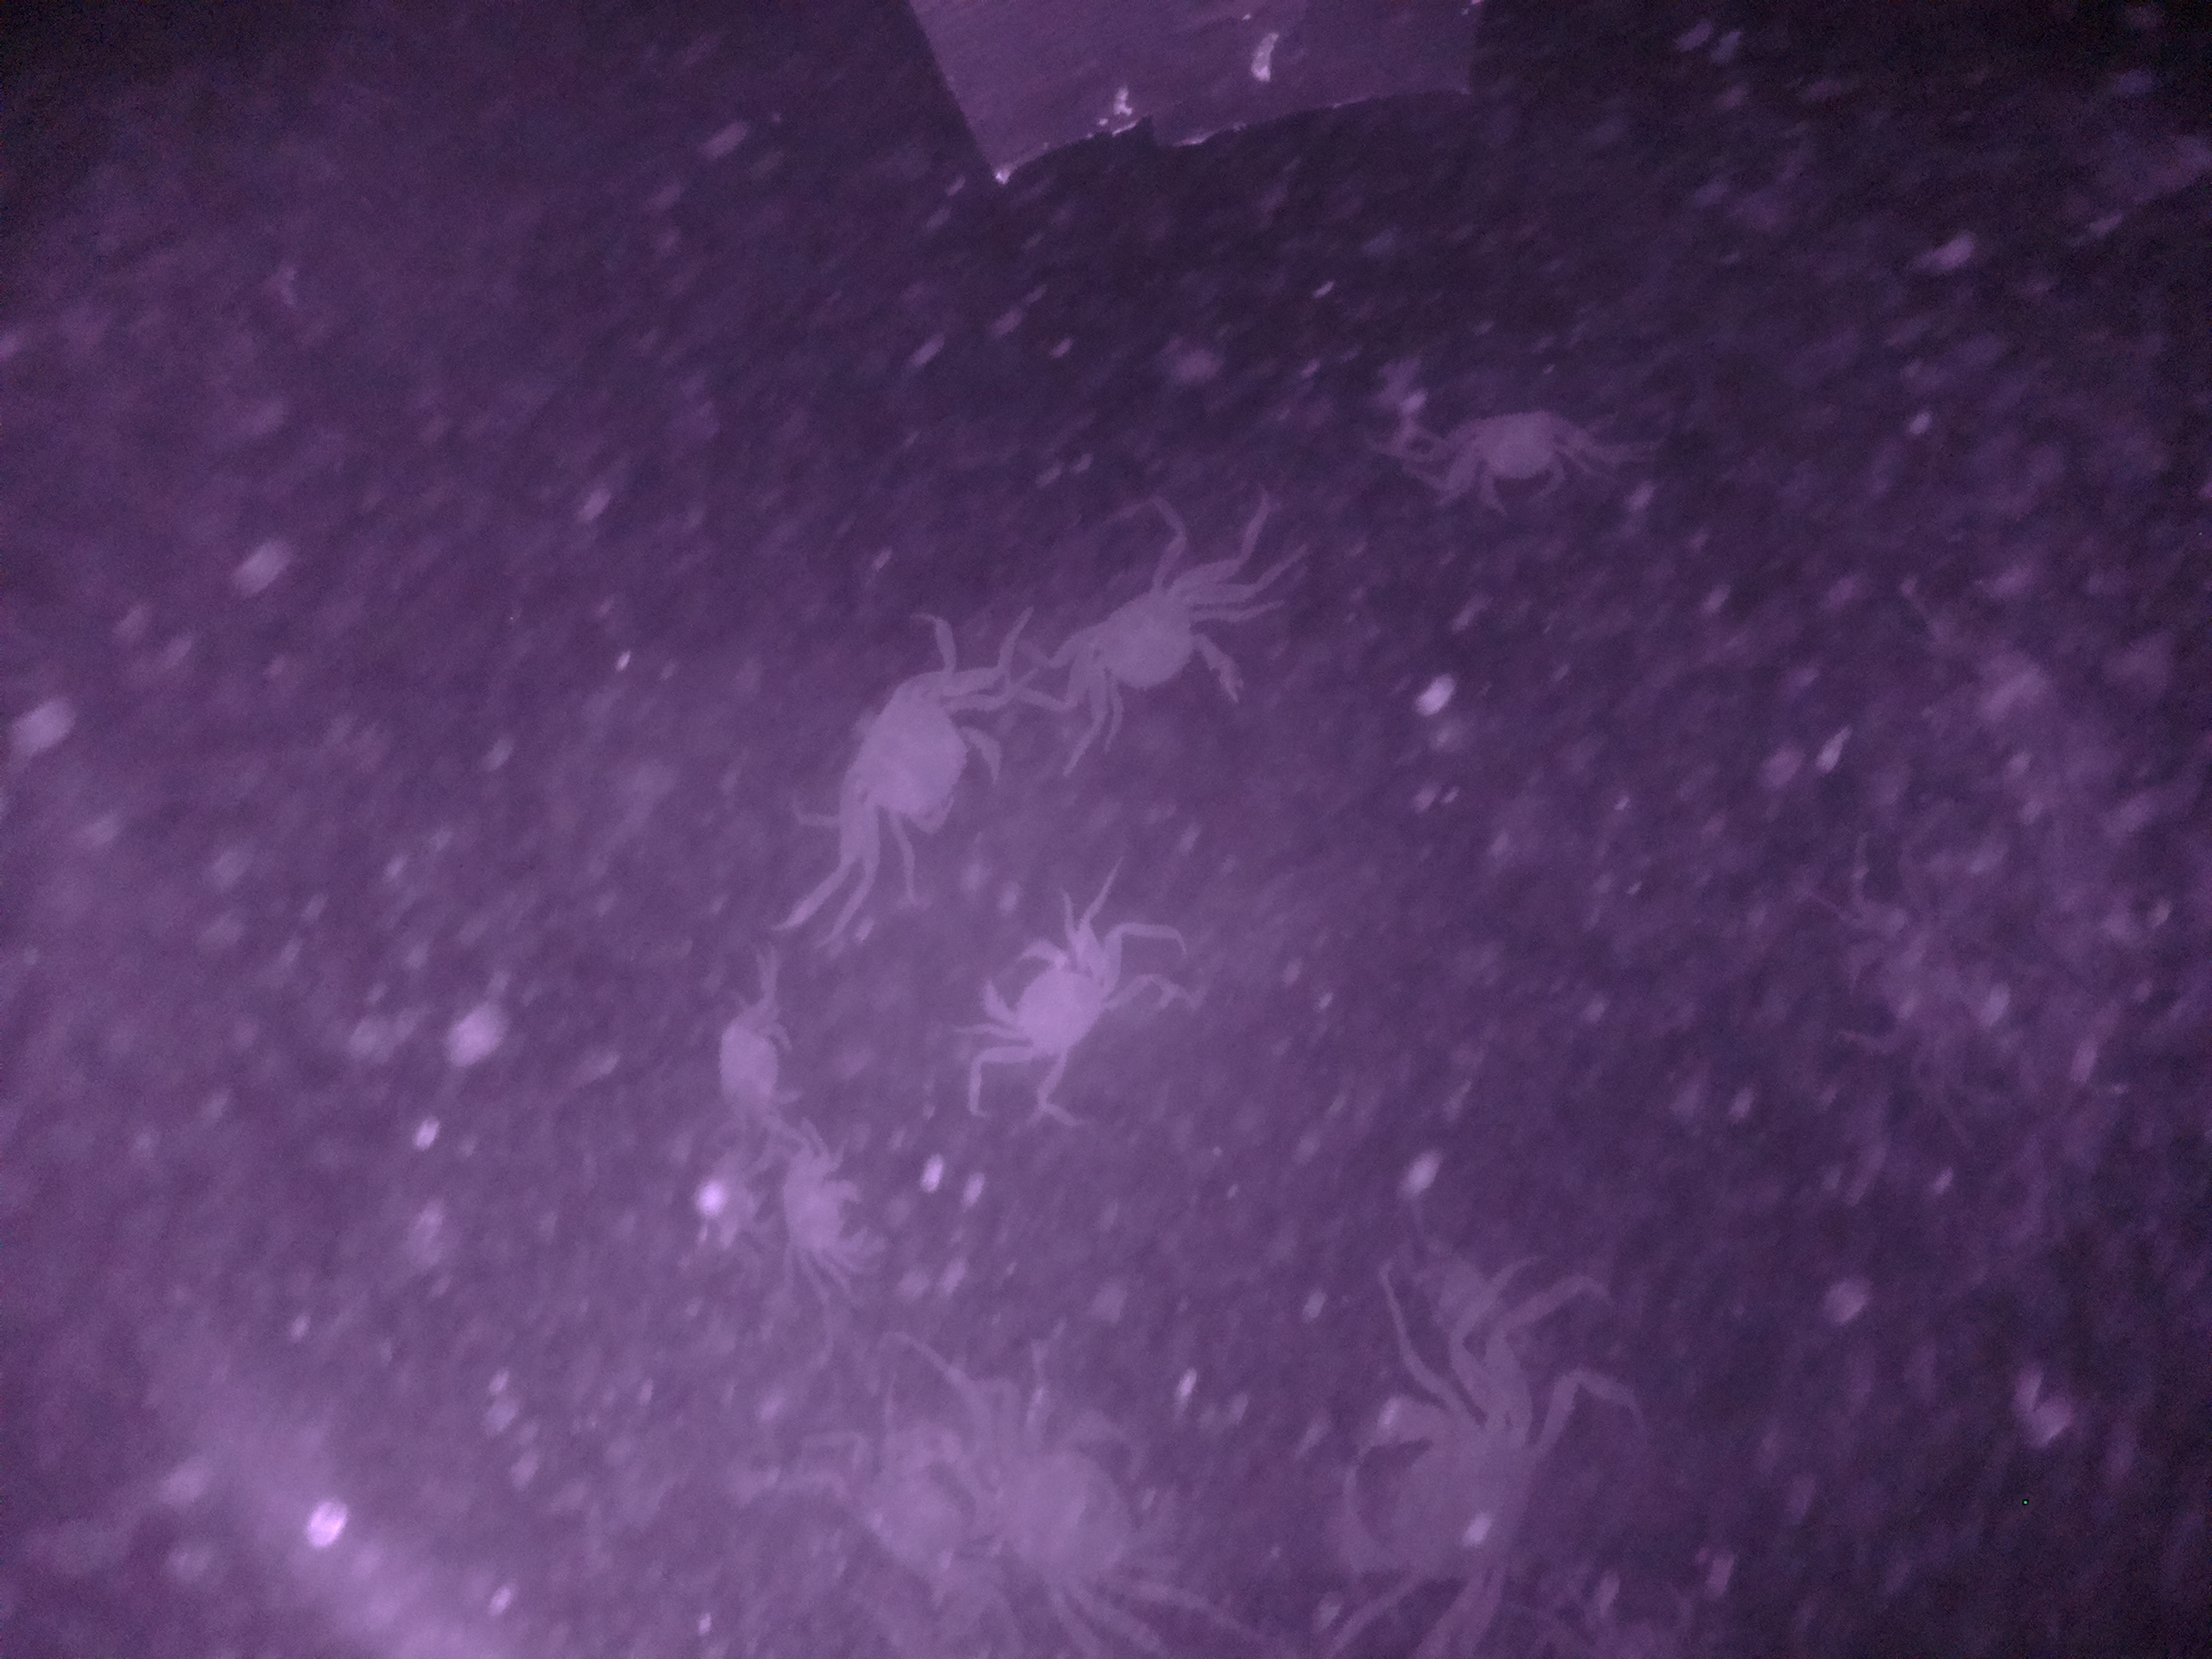Crab: (817, 645, 1005, 871), (1042, 558, 1247, 762), (961, 922, 1125, 1098), (1430, 382, 1583, 514), (770, 1148, 888, 1293)
